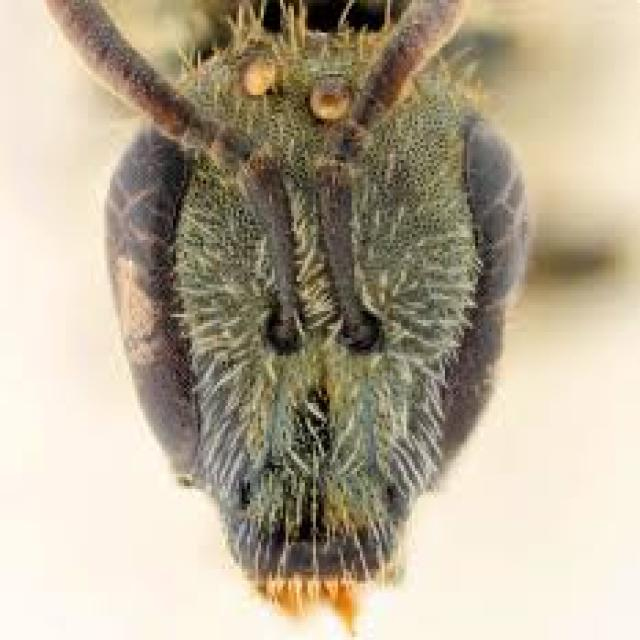Lasioglossum: (61, 0, 538, 631)
